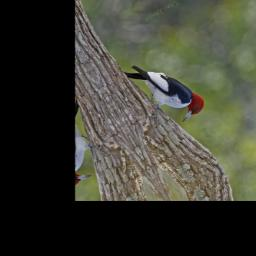Woodpecker: (119, 41, 211, 140)
